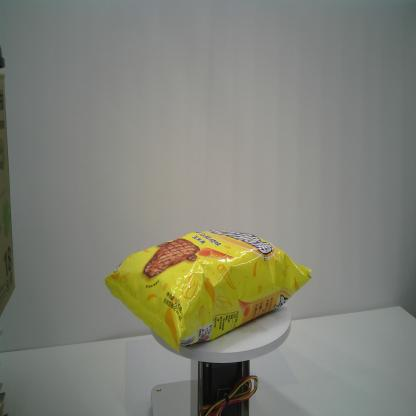Puffed Food: (102, 228, 315, 358)
